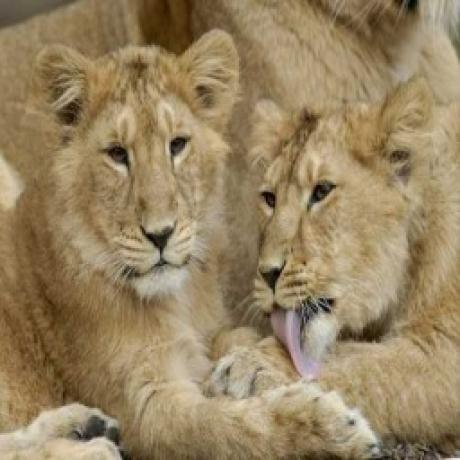Lion: (0, 27, 252, 460), (208, 68, 460, 444)
